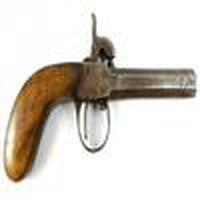gun: (3, 31, 200, 179)
